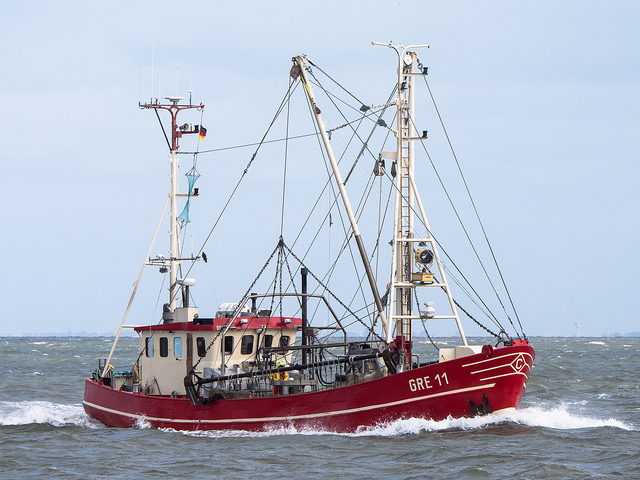fishing_boat: (79, 38, 541, 439)
